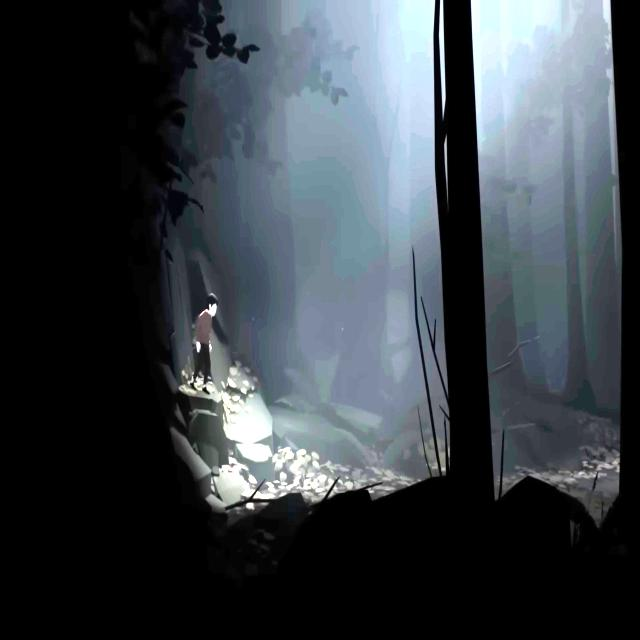boy: (190, 293, 218, 396)
